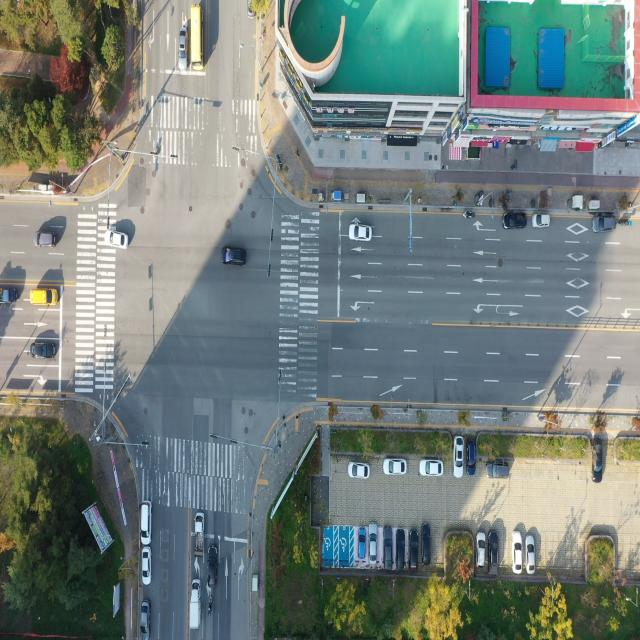car: (31, 286, 60, 306), (139, 502, 152, 546), (31, 342, 57, 361), (490, 531, 501, 575), (208, 545, 219, 589), (223, 247, 247, 267), (454, 436, 465, 478), (487, 460, 511, 479), (594, 438, 605, 478), (422, 524, 432, 567), (514, 532, 524, 574), (384, 528, 394, 570), (396, 530, 406, 570), (368, 527, 378, 567), (411, 531, 421, 571), (385, 458, 407, 476), (34, 232, 56, 250), (421, 460, 444, 477), (140, 602, 150, 640), (106, 232, 127, 250), (350, 223, 372, 240), (504, 213, 526, 230), (142, 548, 152, 585), (466, 439, 476, 475), (349, 463, 370, 480), (526, 535, 535, 573), (357, 528, 367, 561), (593, 217, 615, 232), (479, 534, 488, 570), (180, 30, 188, 70), (532, 214, 550, 228)
small_bus: (192, 5, 206, 71)
small_truck: (188, 578, 201, 630), (196, 512, 204, 558), (0, 287, 18, 306)
